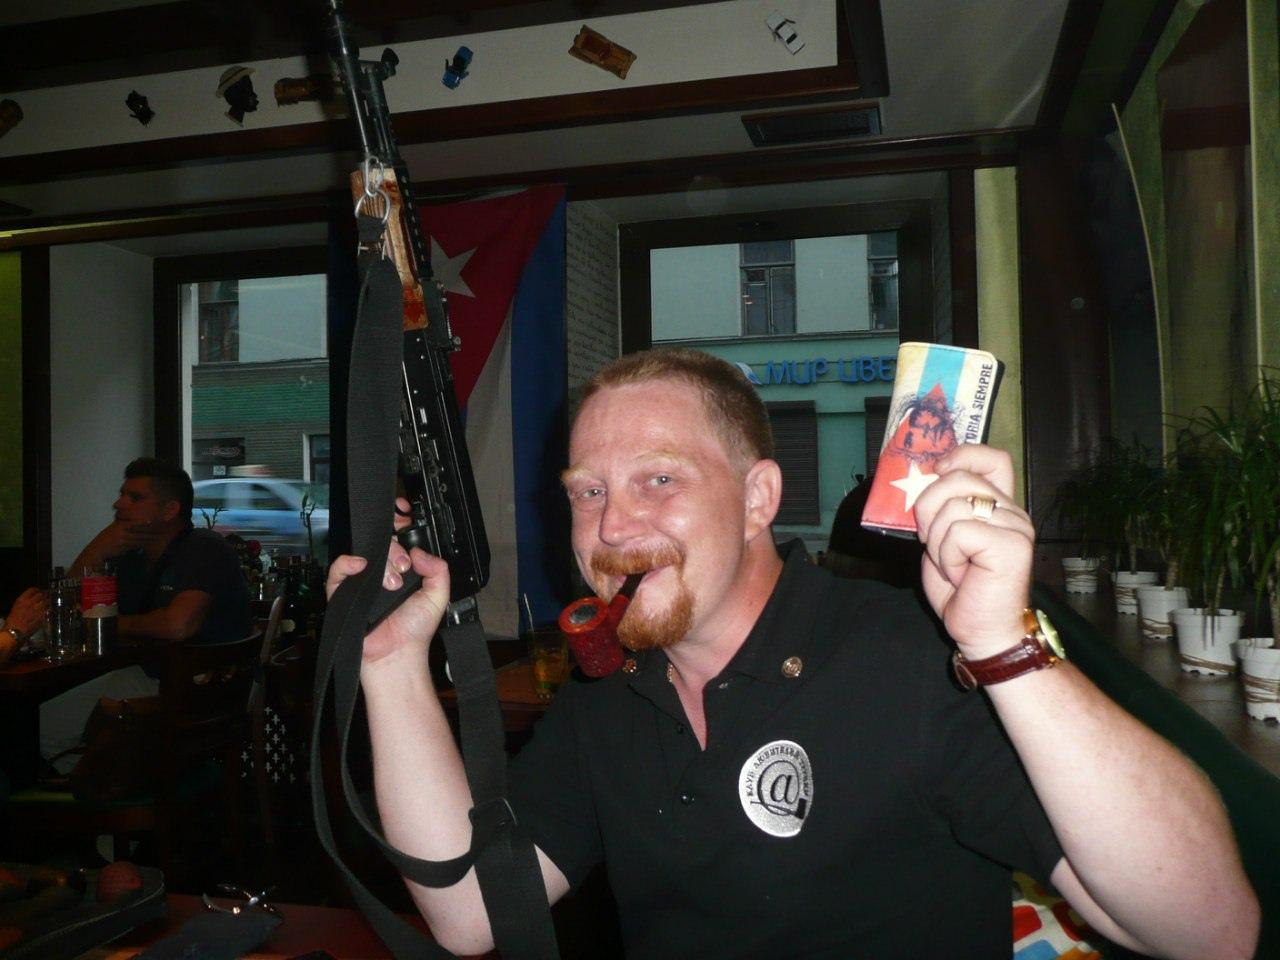trubka: (559, 573, 642, 678)
